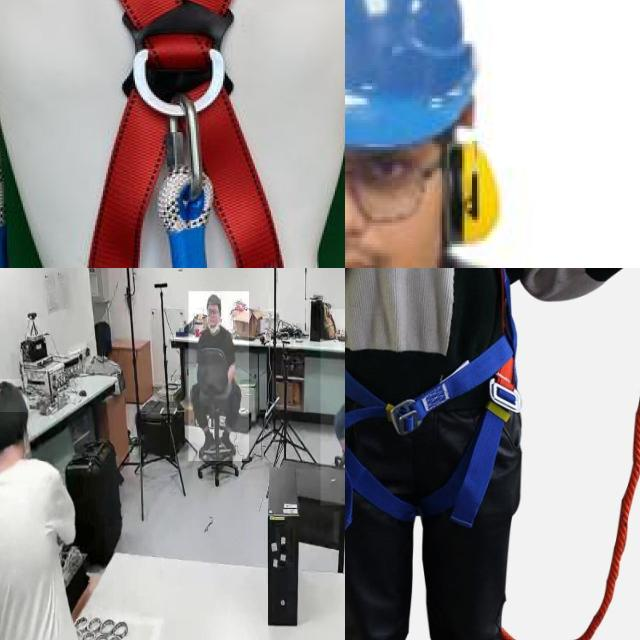Ear-protection: (345, 117, 522, 247)
Harness: (0, 0, 345, 268), (345, 268, 517, 528)
face_nomask: (206, 304, 220, 326)
head_helmet: (345, 0, 495, 150)
head_nohelmet: (0, 379, 27, 413), (207, 293, 220, 305)
person: (0, 380, 113, 640), (188, 291, 250, 462), (320, 308, 345, 506)
shoes: (199, 426, 217, 456), (219, 429, 239, 456), (335, 444, 345, 472)
